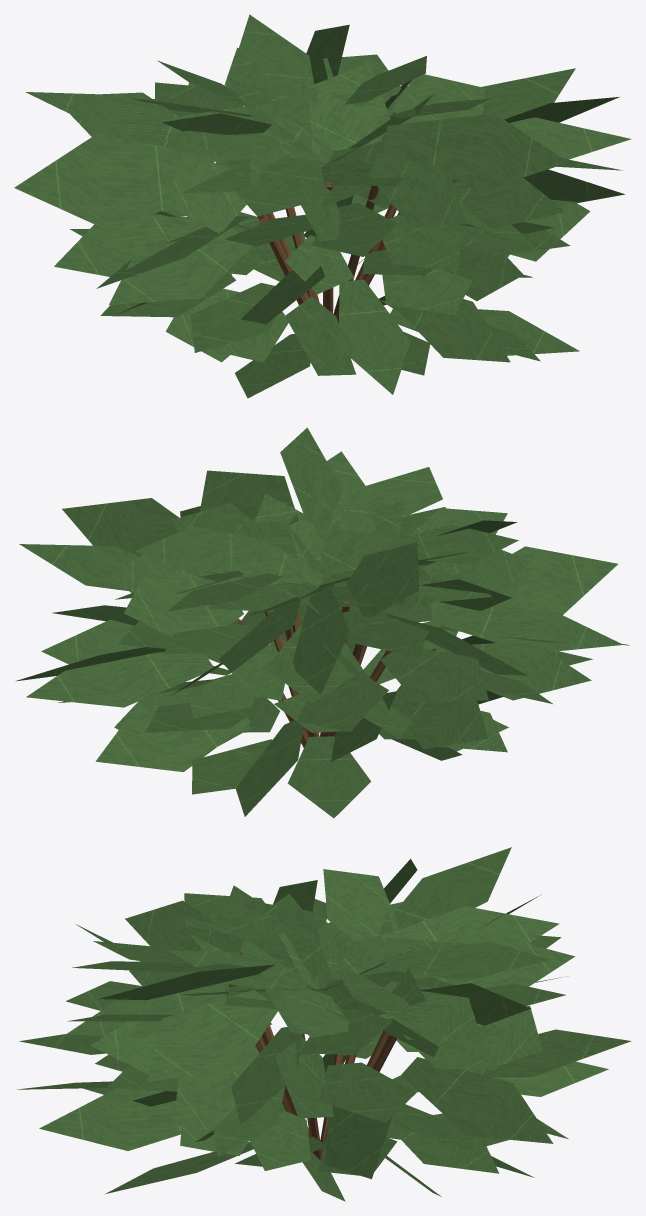
File: en-009_broadleaf_bush_set__dense.obj
3 renders of one model, top to bottom at view 1: azimuth 30°, elevation 25°; view 2: azimuth 150°, elevation 25°; view 3: azimuth 270°, elevation 25°, orthographic. The views are drawn at different scales.
Parts seen in each view (by area): view 1: en-009_broadleaf_bush_set__dense; view 2: en-009_broadleaf_bush_set__dense; view 3: en-009_broadleaf_bush_set__dense.
Boxes of the visible parts, left/top/right/bottom form: en-009_broadleaf_bush_set__dense: left=14, top=14, right=631, bottom=398; en-009_broadleaf_bush_set__dense: left=15, top=427, right=629, bottom=818; en-009_broadleaf_bush_set__dense: left=17, top=847, right=631, bottom=1201.
Size of the model in its own units: 2.03 by 0.9222 by 2.
Materials: 2 (2 with a texture image).
